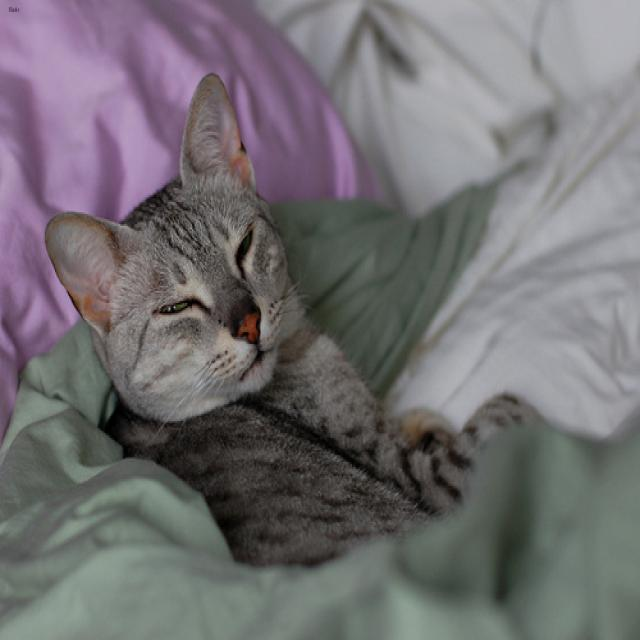cat: (42, 72, 284, 419)
